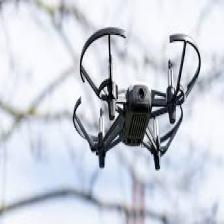drone: (73, 28, 201, 163)
